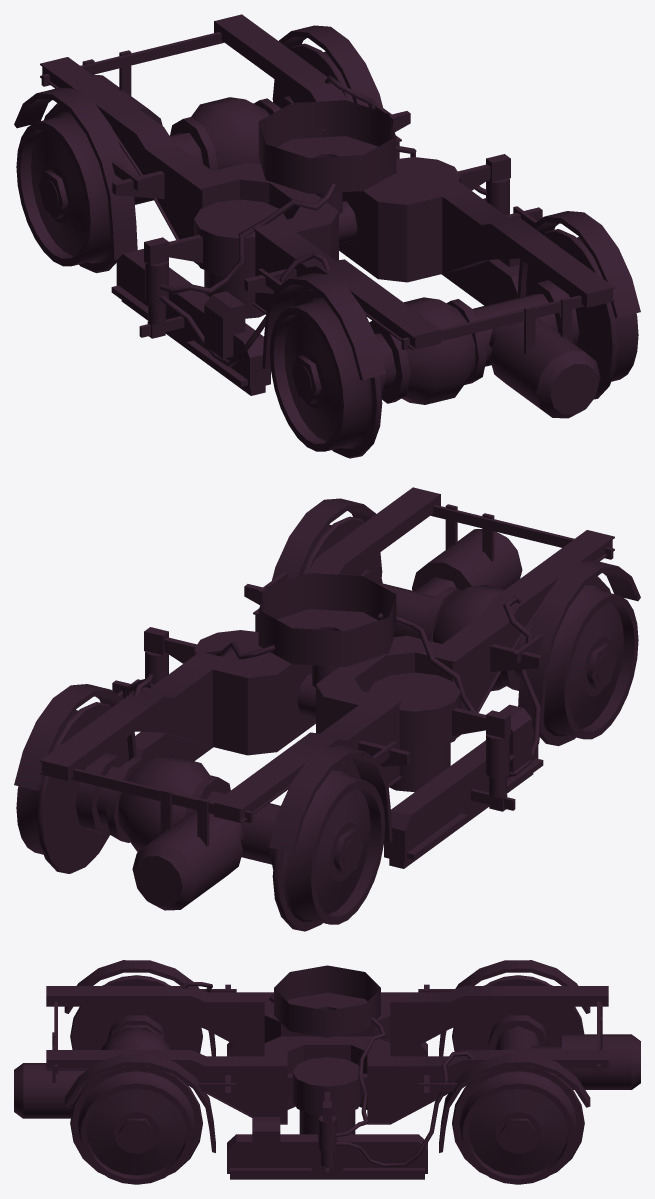
File: vagon cart lod0.FBX
3 views of the same model, one above another, from view 1: azimuth 30°, elevation 25°; view 2: azimuth 150°, elevation 25°; view 3: azimuth 270°, elevation 25° (orthographic). The views are drawn at different scales.
Parts seen in each view (by area): view 1: base, wheel 2, wheel 1; view 2: base, wheel 1, wheel 2; view 3: base, wheel 2, wheel 1.
Part boxes in pixels (x1=…): base: x1=14, y1=14, x2=640, y2=418; wheel 2: x1=269, y1=229, x2=638, y2=458; wheel 1: x1=16, y1=43, x2=354, y2=273; base: x1=14, y1=487, x2=640, y2=910; wheel 1: x1=16, y1=702, x2=385, y2=931; wheel 2: x1=300, y1=516, x2=638, y2=746; base: x1=14, y1=960, x2=640, y2=1179; wheel 2: x1=70, y1=975, x2=202, y2=1184; wheel 1: x1=452, y1=975, x2=584, y2=1184.
Bounding box in the file's own units: 1.4 × 0.7206 × 2.69.
